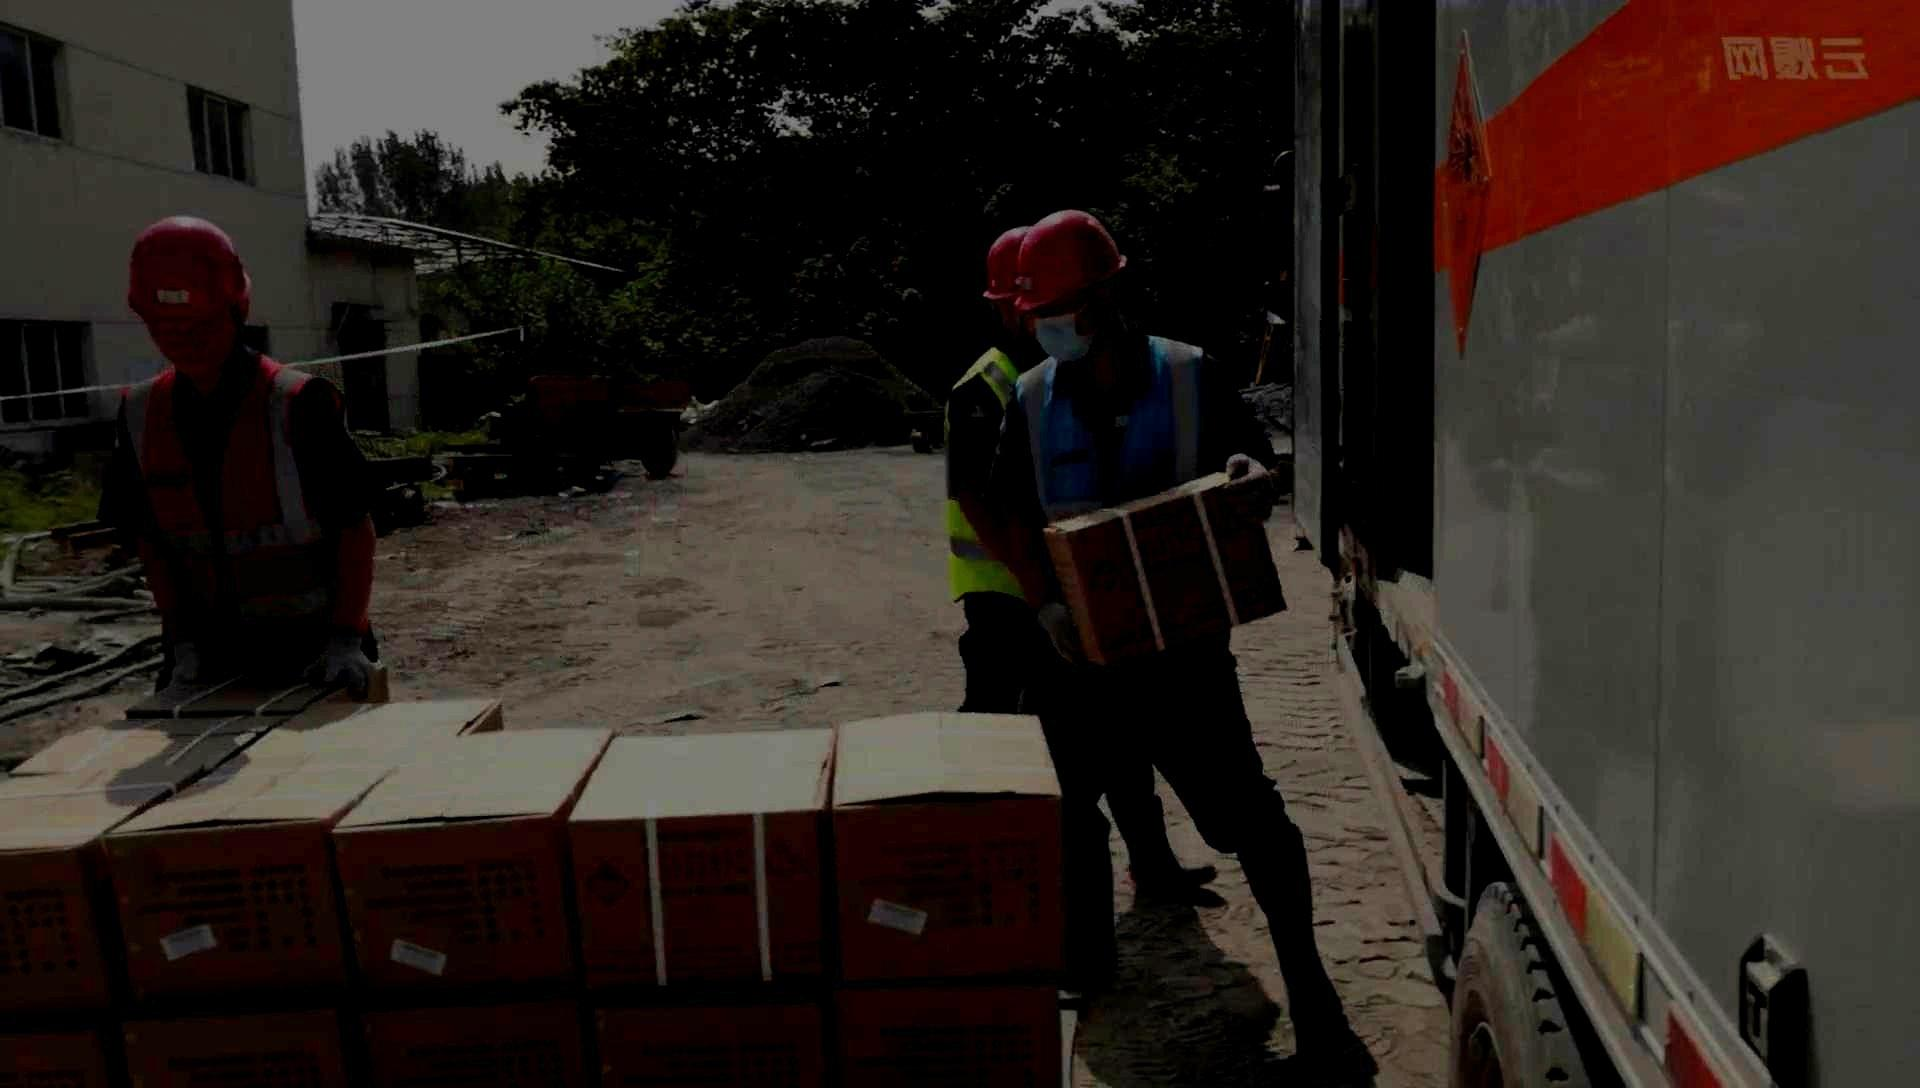helmet: (127, 214, 252, 378), (1015, 210, 1127, 363), (982, 226, 1035, 328)
